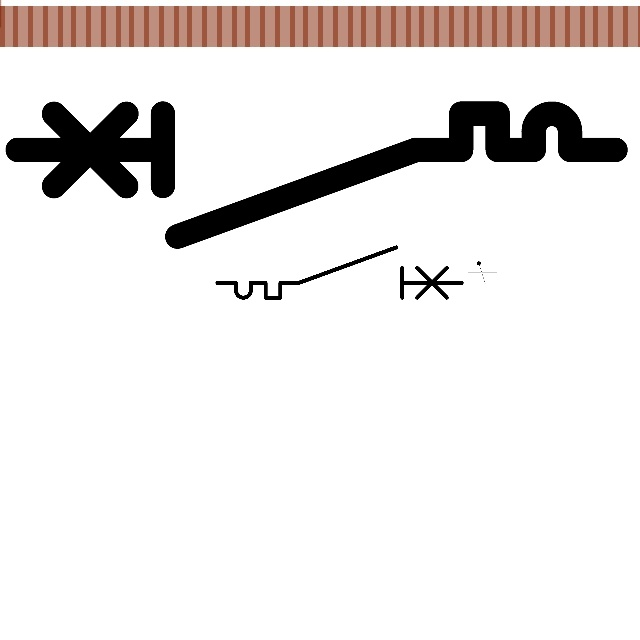interruptor_termomagnetico: (2, 98, 631, 252), (211, 241, 468, 304)
